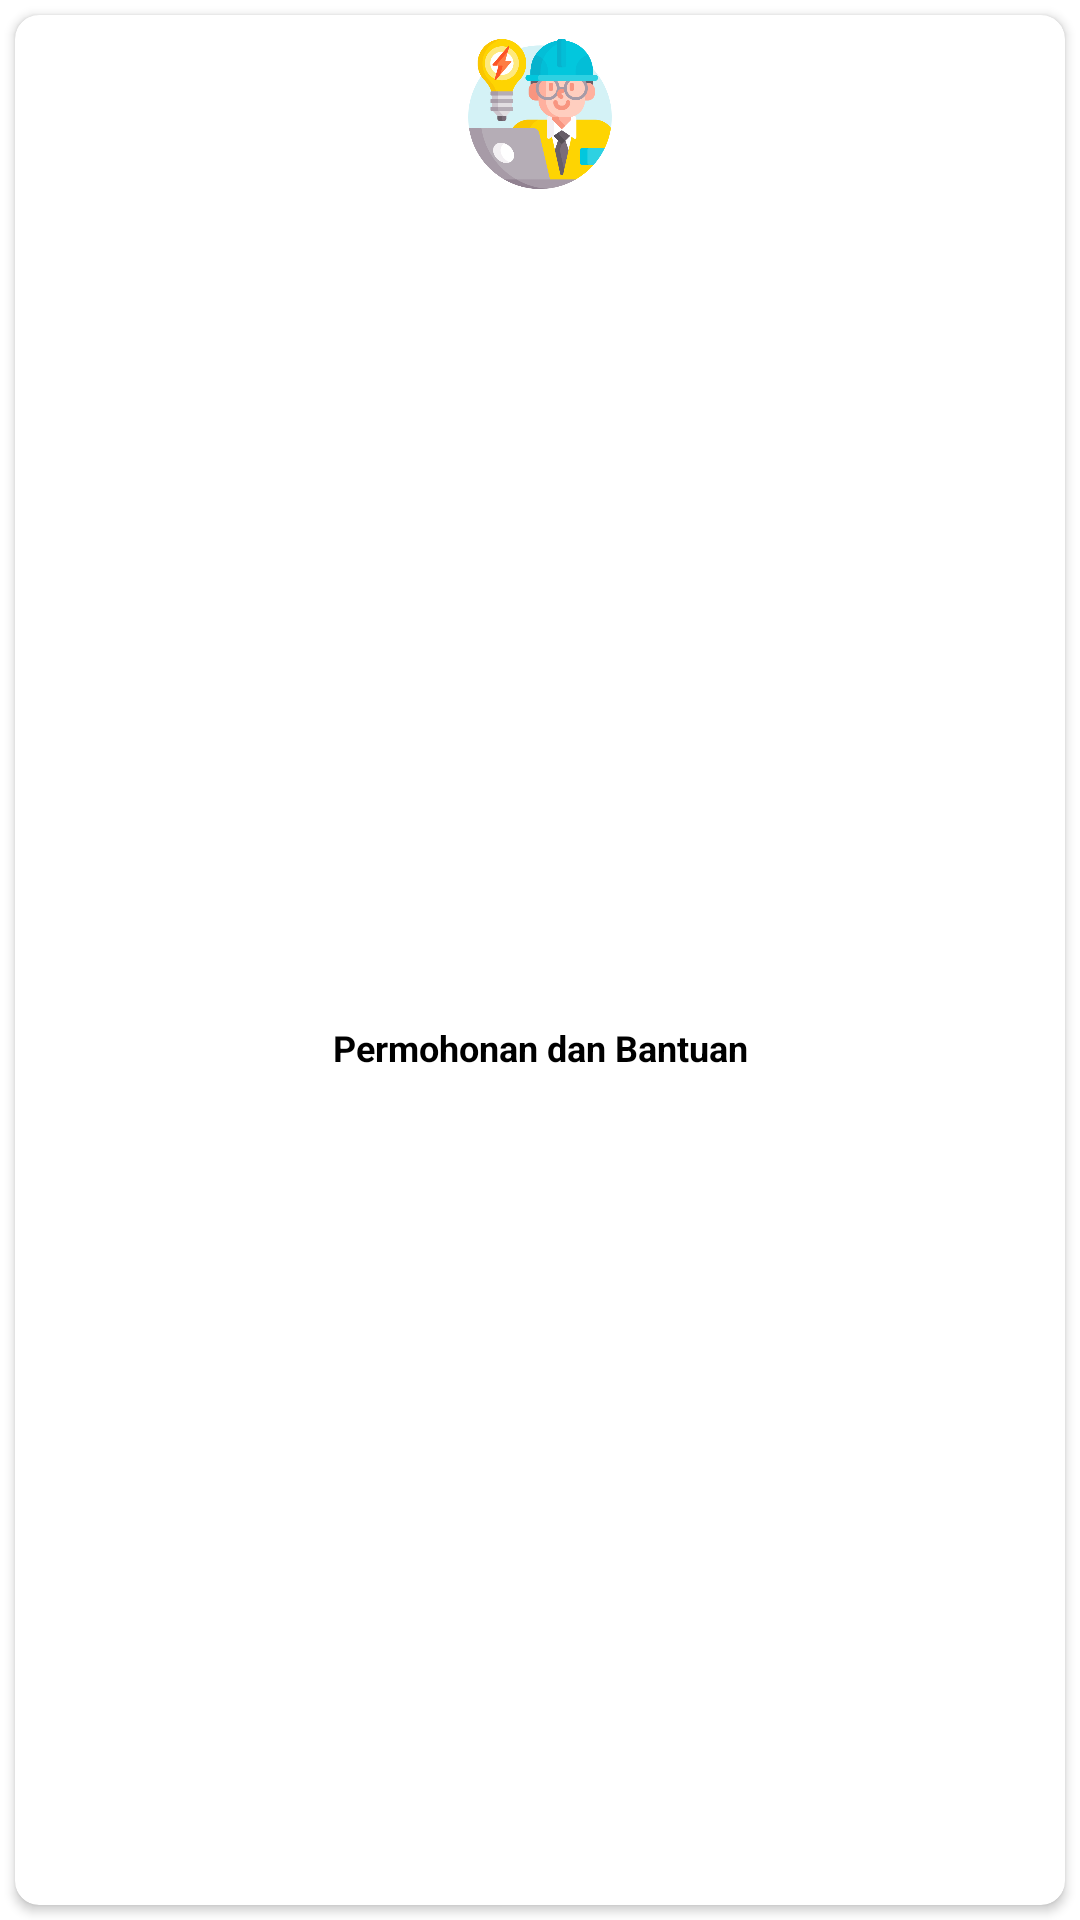

Screen size 1080w x 1920h. Icon name, then its center in pixels as [x,y]:
engineer: [540,114]
